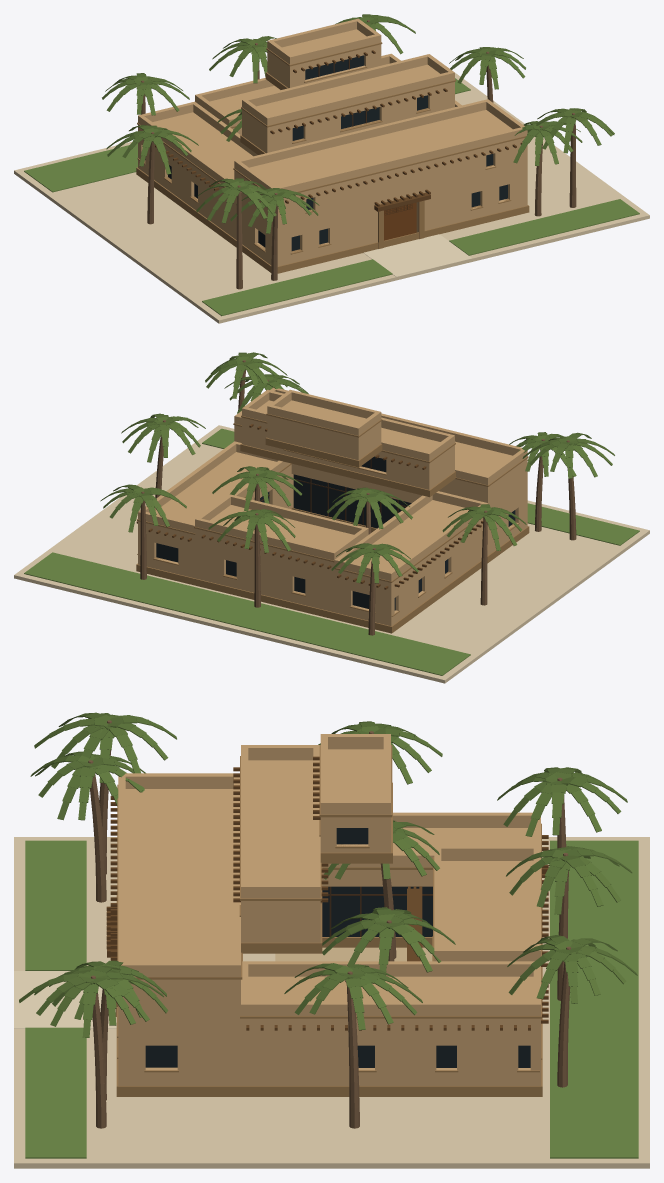
Rendered from ulai.glb.
The picture shows the model from 3 angles, top to bottom: view 1: azimuth 30°, elevation 25°; view 2: azimuth 150°, elevation 25°; view 3: azimuth 270°, elevation 25°; orthographic projection. The views are drawn at different scales.
Visible parts, largest first — view 1: Ulai_mud, Ulai_pave, Ulai_leaf, Ulai_lawn, Ulai_mud_d, Ulai_trunk, Ulai_coping, Ulai_glass, Ulai_wood, Ulai_door; view 2: Ulai_mud, Ulai_pave, Ulai_lawn, Ulai_leaf, Ulai_mud_d, Ulai_glass, Ulai_trunk, Ulai_wood; view 3: Ulai_mud, Ulai_pave, Ulai_lawn, Ulai_leaf, Ulai_mud_d, Ulai_trunk, Ulai_glass, Ulai_wood, Ulai_coping, Ulai_court.
Part boxes in pixels (x1=…): Ulai_mud: x1=138, y1=18, x2=527, y2=266; Ulai_pave: x1=14, y1=73, x2=649, y2=323; Ulai_leaf: x1=102, y1=14, x2=614, y2=233; Ulai_lawn: x1=24, y1=78, x2=639, y2=316; Ulai_mud_d: x1=136, y1=42, x2=529, y2=273; Ulai_trunk: x1=141, y1=20, x2=576, y2=289; Ulai_coping: x1=363, y1=234, x2=472, y2=276; Ulai_glass: x1=145, y1=55, x2=507, y2=250; Ulai_wood: x1=155, y1=50, x2=522, y2=211; Ulai_door: x1=384, y1=202, x2=416, y2=240; Ulai_mud: x1=138, y1=387, x2=527, y2=626; Ulai_pave: x1=14, y1=425, x2=649, y2=683; Ulai_lawn: x1=24, y1=428, x2=639, y2=675; Ulai_leaf: x1=100, y1=352, x2=614, y2=583; Ulai_mud_d: x1=136, y1=413, x2=529, y2=633; Ulai_glass: x1=156, y1=456, x2=515, y2=610; Ulai_trunk: x1=140, y1=360, x2=576, y2=635; Ulai_wood: x1=136, y1=424, x2=483, y2=589; Ulai_mud: x1=118, y1=734, x2=540, y2=1085; Ulai_pave: x1=14, y1=837, x2=649, y2=1168; Ulai_lawn: x1=25, y1=840, x2=638, y2=1158; Ulai_leaf: x1=19, y1=712, x2=637, y2=1037; Ulai_mud_d: x1=115, y1=745, x2=542, y2=1096; Ulai_trunk: x1=88, y1=720, x2=571, y2=1128; Ulai_glass: x1=145, y1=828, x2=530, y2=1067; Ulai_wood: x1=106, y1=756, x2=548, y2=1030; Ulai_coping: x1=14, y1=971, x2=116, y2=1028; Ulai_court: x1=275, y1=947, x2=432, y2=961.
Bounding box in the file's own units: 34 × 11.5 × 28.
